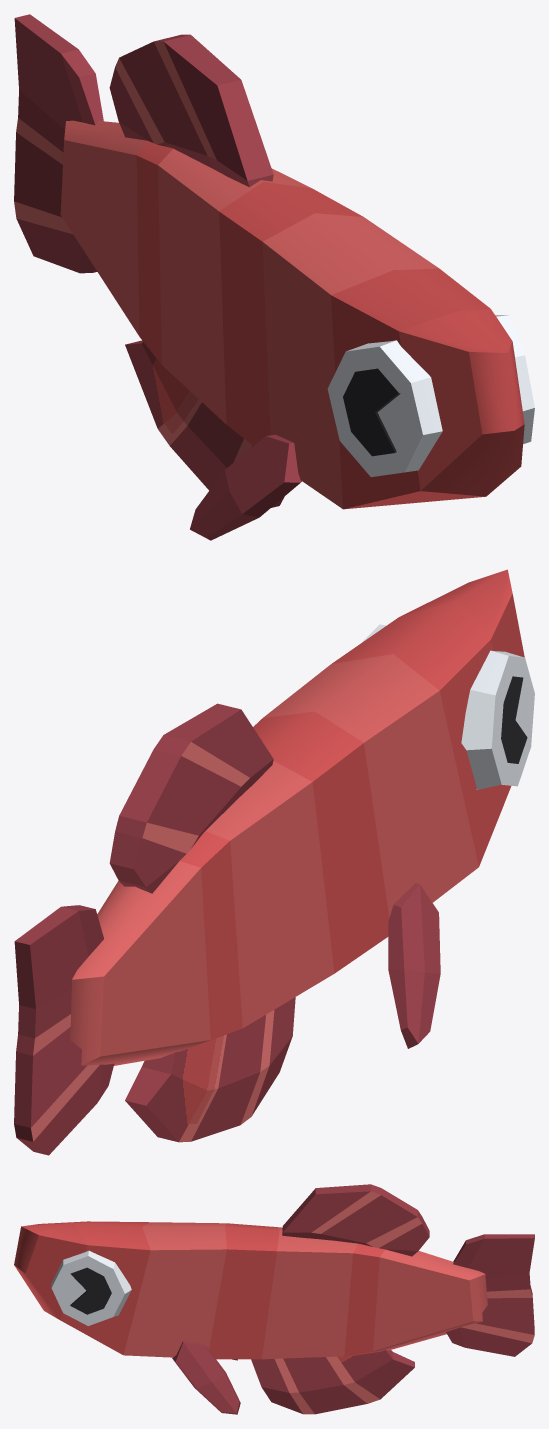
The model's file is Fish.fbx.
3 renders of one model, top to bottom at view 1: azimuth 30°, elevation 25°; view 2: azimuth 150°, elevation 25°; view 3: azimuth 270°, elevation 25°, orthographic. The views are drawn at different scales.
Parts seen in each view (by area): view 1: polySurface30; view 2: polySurface30; view 3: polySurface30.
Part boxes in pixels (left/top/right/bottom): polySurface30: left=14, top=14, right=534, bottom=540; polySurface30: left=14, top=569, right=534, bottom=1155; polySurface30: left=14, top=1184, right=534, bottom=1414.
Bounding box in the file's own units: 2.6 × 4.59 × 9.68.
Materials: 1 (1 with a texture image).
